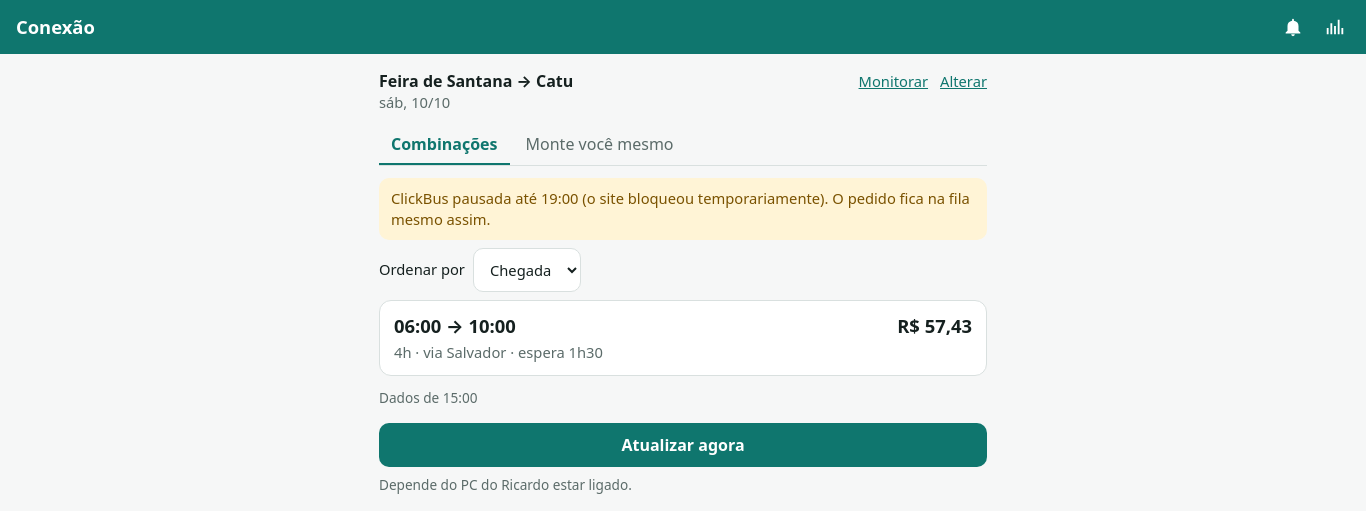
Test: Resultados › quarentena › banner "Coletor pausado até HH:MM" e o pedido continua possível
expect the message shows "ClickBus pausada até 19:00 (o site bloqueou temporariamente). O pedido fica na fila mesmo assim.": met, box [379,178,987,240]
Click the button "Atualizar agora" at (683,445), box [379,423,987,467]
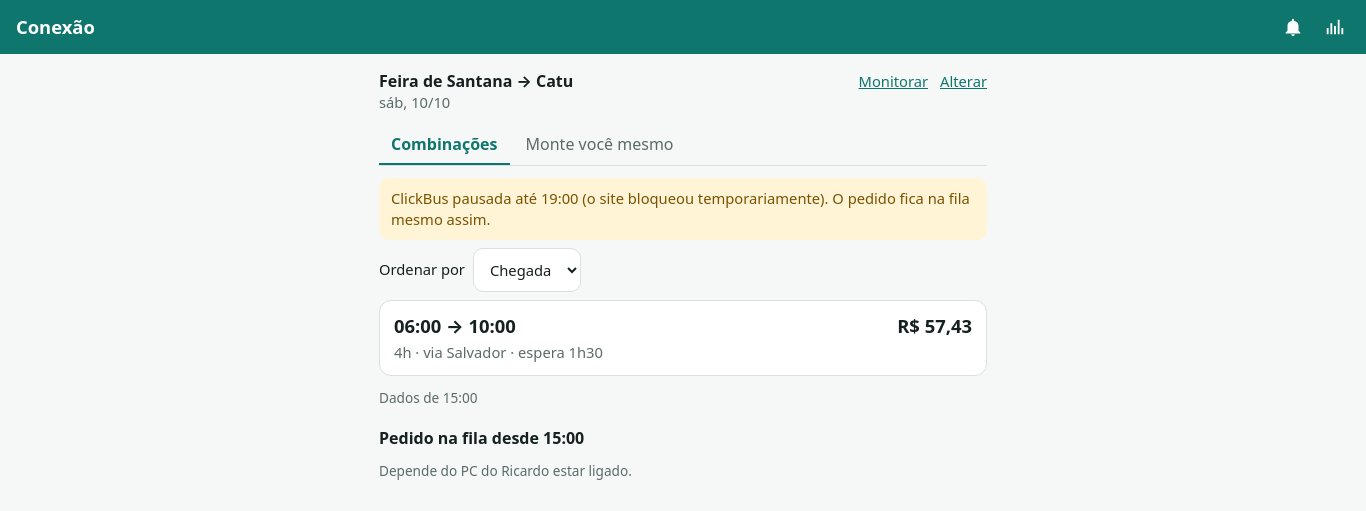
expect the text "Pedido na fila desde 15:00" is shown: met, box [379,427,584,449]
